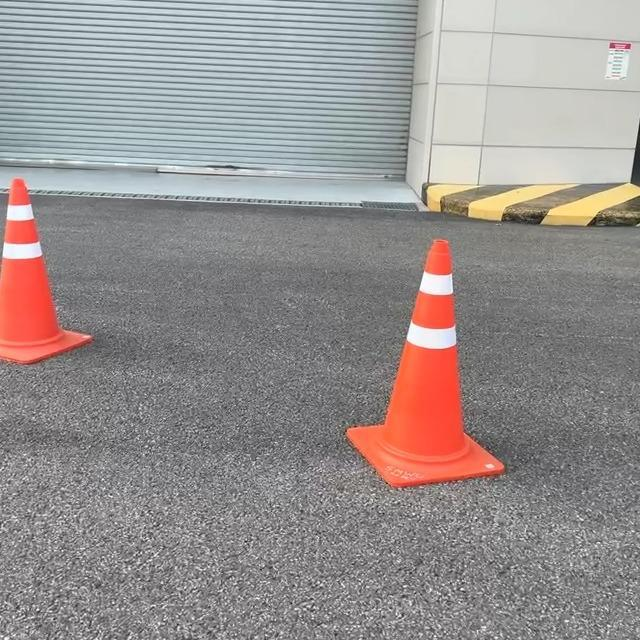fallen_object: (300, 225, 557, 526), (0, 125, 98, 377)
